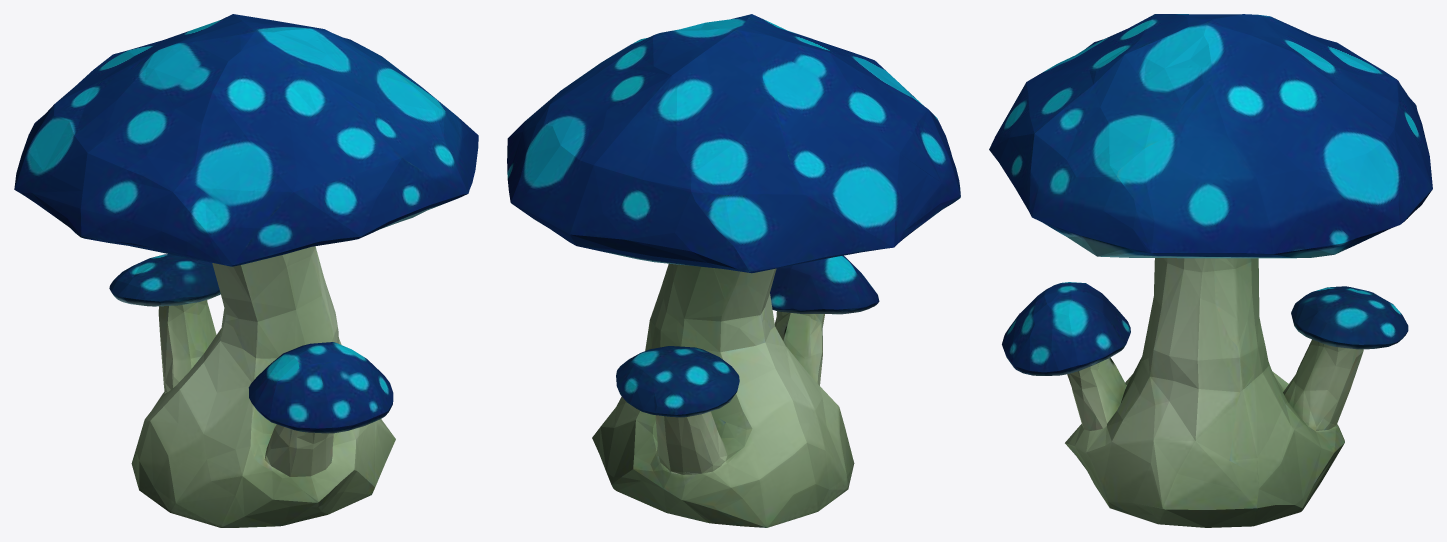
Rendered from mycelium_champignon_geant.glb.
3 views of the same model, side by side, from view 1: azimuth 30°, elevation 25°; view 2: azimuth 150°, elevation 25°; view 3: azimuth 270°, elevation 25° (orthographic).
Visible parts, largest first — view 1: geometry_0; view 2: geometry_0; view 3: geometry_0.
Boxes of the visible parts, x1=… form: geometry_0: x1=14, y1=14, x2=478, y2=527; geometry_0: x1=507, y1=14, x2=960, y2=527; geometry_0: x1=989, y1=14, x2=1432, y2=527.
Bounding box in the file's own units: 0.9255 × 0.999 × 0.8857.
1 material, 1 textured.
